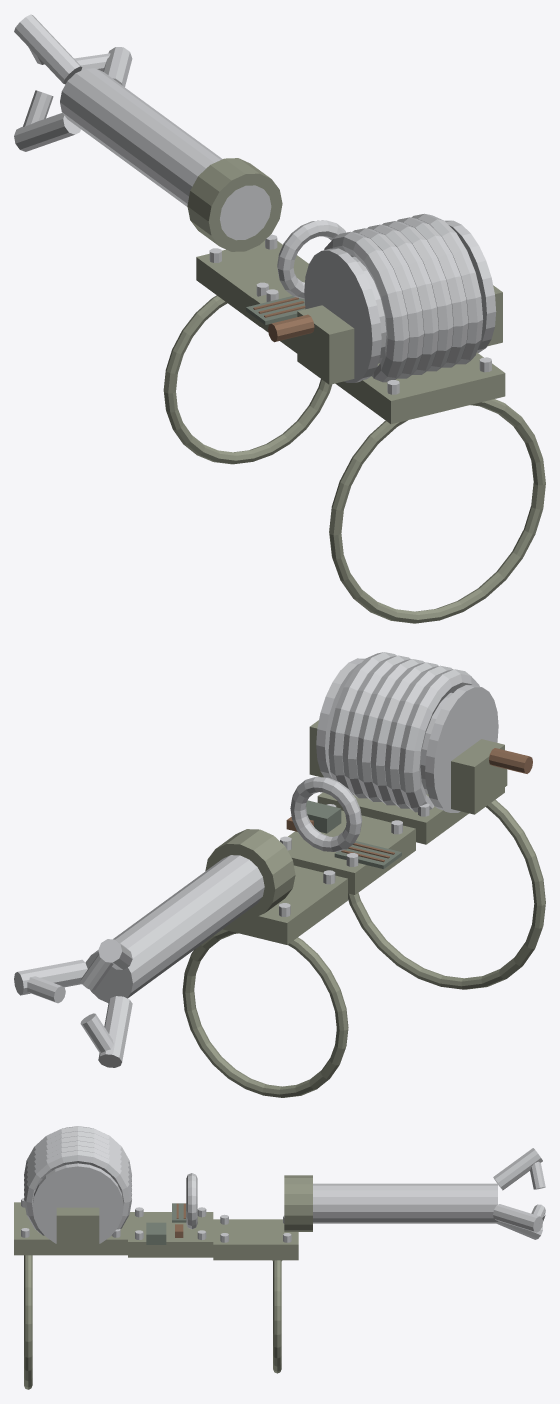
File: tow_v2.glb
3 renders of one model, top to bottom at view 1: azimuth 30°, elevation 25°; view 2: azimuth 150°, elevation 25°; view 3: azimuth 270°, elevation 25°, orthographic. The views are drawn at different scales.
Visible parts, largest first — view 1: TOW_Barrel, TOW_CuffRear, TOW_Housing_Rear, TOW_Flange_L, TOW_BarrelCollar, TOW_CuffFront, TOW_Housing_Front, TOW_CableWrap_00, TOW_BearingBlock_L, TOW_CableWrap_03, TOW_CableWrap_01, TOW_CableWrap_05 (+9 smaller); view 2: TOW_Barrel, TOW_CuffFront, TOW_Flange_L, TOW_CuffRear, TOW_Housing_Front, TOW_Housing_Mid, TOW_CableWrap_00, TOW_BarrelCollar, TOW_BearingBlock_L, TOW_FairleadGuide, TOW_Housing_Rear, TOW_CableWrap_04 (+15 smaller); view 3: TOW_Barrel, TOW_Flange_R, TOW_Housing_Front, TOW_Housing_Mid, TOW_Housing_Rear, TOW_CableWrap_05, TOW_BearingBlock_R, TOW_BarrelCollar, TOW_CuffRear, TOW_CuffFront, TOW_Barb0_A, TOW_Barb1_A (+8 smaller).
Boxes of the visible parts, x1,y1,x2,y2 form: TOW_Barrel: [60, 68, 271, 240]; TOW_CuffRear: [329, 399, 545, 623]; TOW_Housing_Rear: [335, 352, 505, 424]; TOW_Flange_L: [304, 248, 381, 382]; TOW_BarrelCollar: [187, 158, 282, 251]; TOW_CuffFront: [163, 295, 332, 464]; TOW_Housing_Front: [196, 240, 308, 326]; TOW_CableWrap_00: [324, 231, 409, 382]; TOW_BearingBlock_L: [297, 305, 354, 384]; TOW_CableWrap_03: [382, 221, 453, 371]; TOW_CableWrap_01: [350, 228, 423, 378]; TOW_CableWrap_05: [411, 213, 483, 364]; TOW_Barrel: [85, 855, 264, 1003]; TOW_CuffFront: [182, 929, 348, 1097]; TOW_Flange_L: [425, 685, 498, 812]; TOW_CuffRear: [348, 799, 545, 989]; TOW_Housing_Front: [223, 865, 347, 944]; TOW_Housing_Mid: [288, 810, 415, 894]; TOW_CableWrap_00: [398, 669, 479, 812]; TOW_BarrelCollar: [205, 829, 295, 918]; TOW_BearingBlock_L: [451, 739, 504, 814]; TOW_FairleadGuide: [290, 777, 362, 851]; TOW_Housing_Rear: [317, 769, 507, 844]; TOW_CableWrap_04: [342, 655, 410, 798]; TOW_Barrel: [313, 1183, 497, 1223]; TOW_Flange_R: [32, 1163, 123, 1243]; TOW_Housing_Front: [213, 1219, 298, 1260]; TOW_Housing_Mid: [128, 1212, 213, 1257]; TOW_Housing_Rear: [14, 1202, 127, 1255]; TOW_CableWrap_05: [24, 1150, 131, 1235]; TOW_BearingBlock_R: [56, 1207, 99, 1249]; TOW_BarrelCollar: [284, 1175, 312, 1231]; TOW_CuffRear: [24, 1255, 32, 1389]; TOW_CuffFront: [273, 1260, 281, 1373]; TOW_Barb0_A: [493, 1204, 543, 1232]; TOW_Barb1_A: [493, 1148, 542, 1190].
Bounding box in the file's own units: 0.1274 × 0.1888 × 0.3737.
